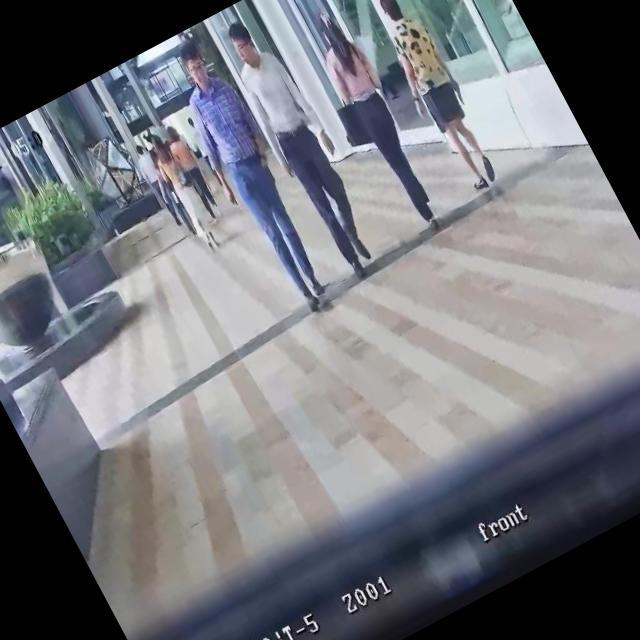person: (152, 28, 348, 325), (210, 8, 396, 288), (300, 2, 456, 241), (360, 0, 509, 200), (142, 128, 228, 258), (158, 120, 228, 224), (138, 136, 202, 240), (128, 140, 184, 226), (184, 114, 234, 194)
